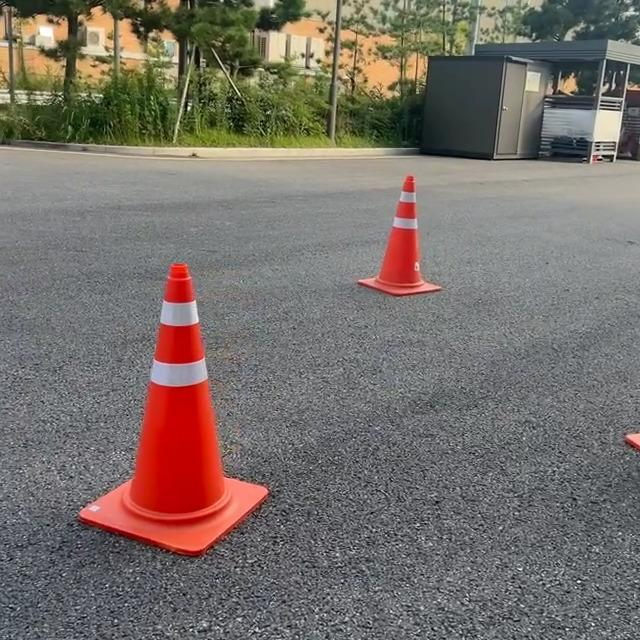fallen_object: (69, 235, 286, 585), (342, 167, 422, 296)
